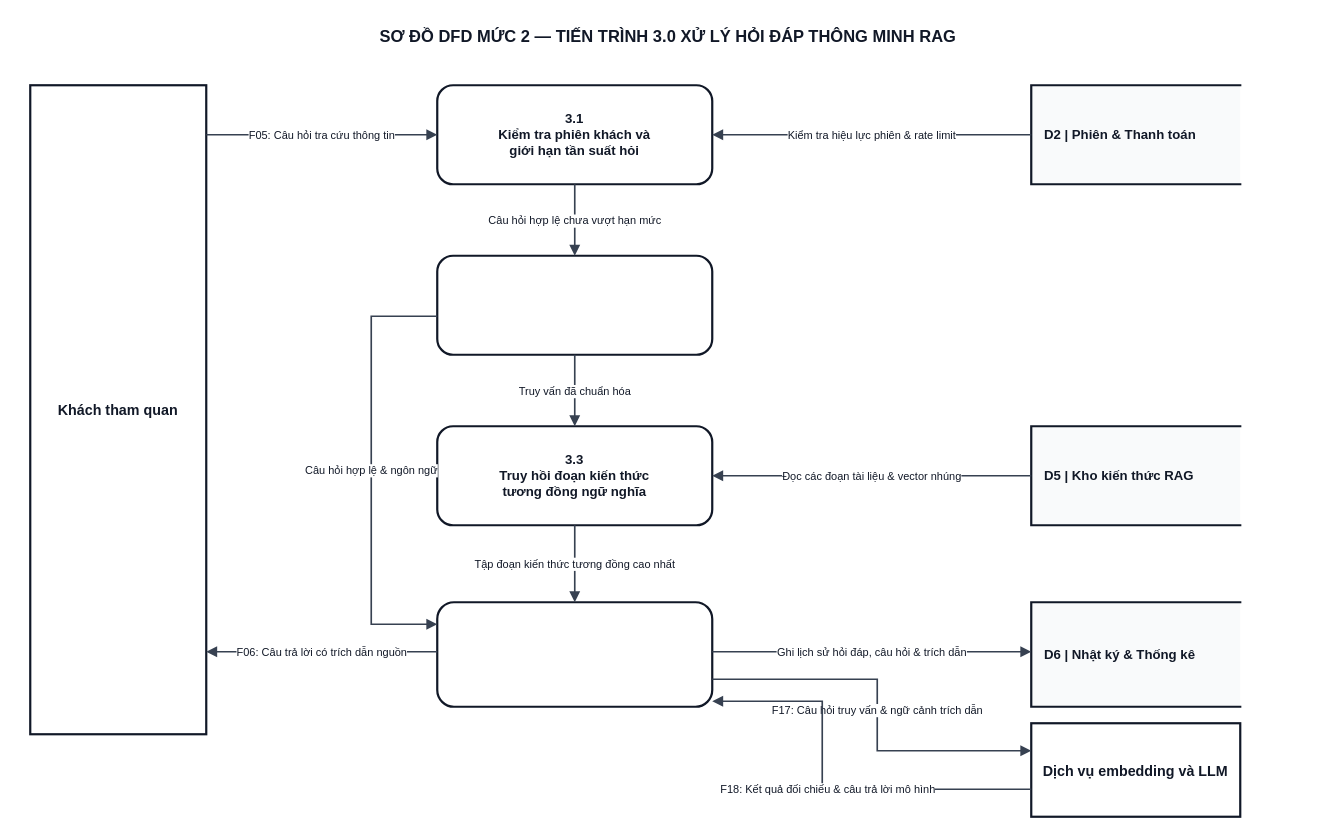
Image size: 1335x836. Some labels were removed from this diagram. The shapes that lost their labels are listed below. From the top down, each one's box as (x1, y1, x2, y2) in pixels, then its label:
(436, 254, 713, 355): 3.2 Kiểm tra phạm vi câu hỏi và chuẩn hóa truy vấn
(436, 601, 713, 707): 3.4 Tổng hợp câu trả lời có trích dẫn và ghi nhật ký
